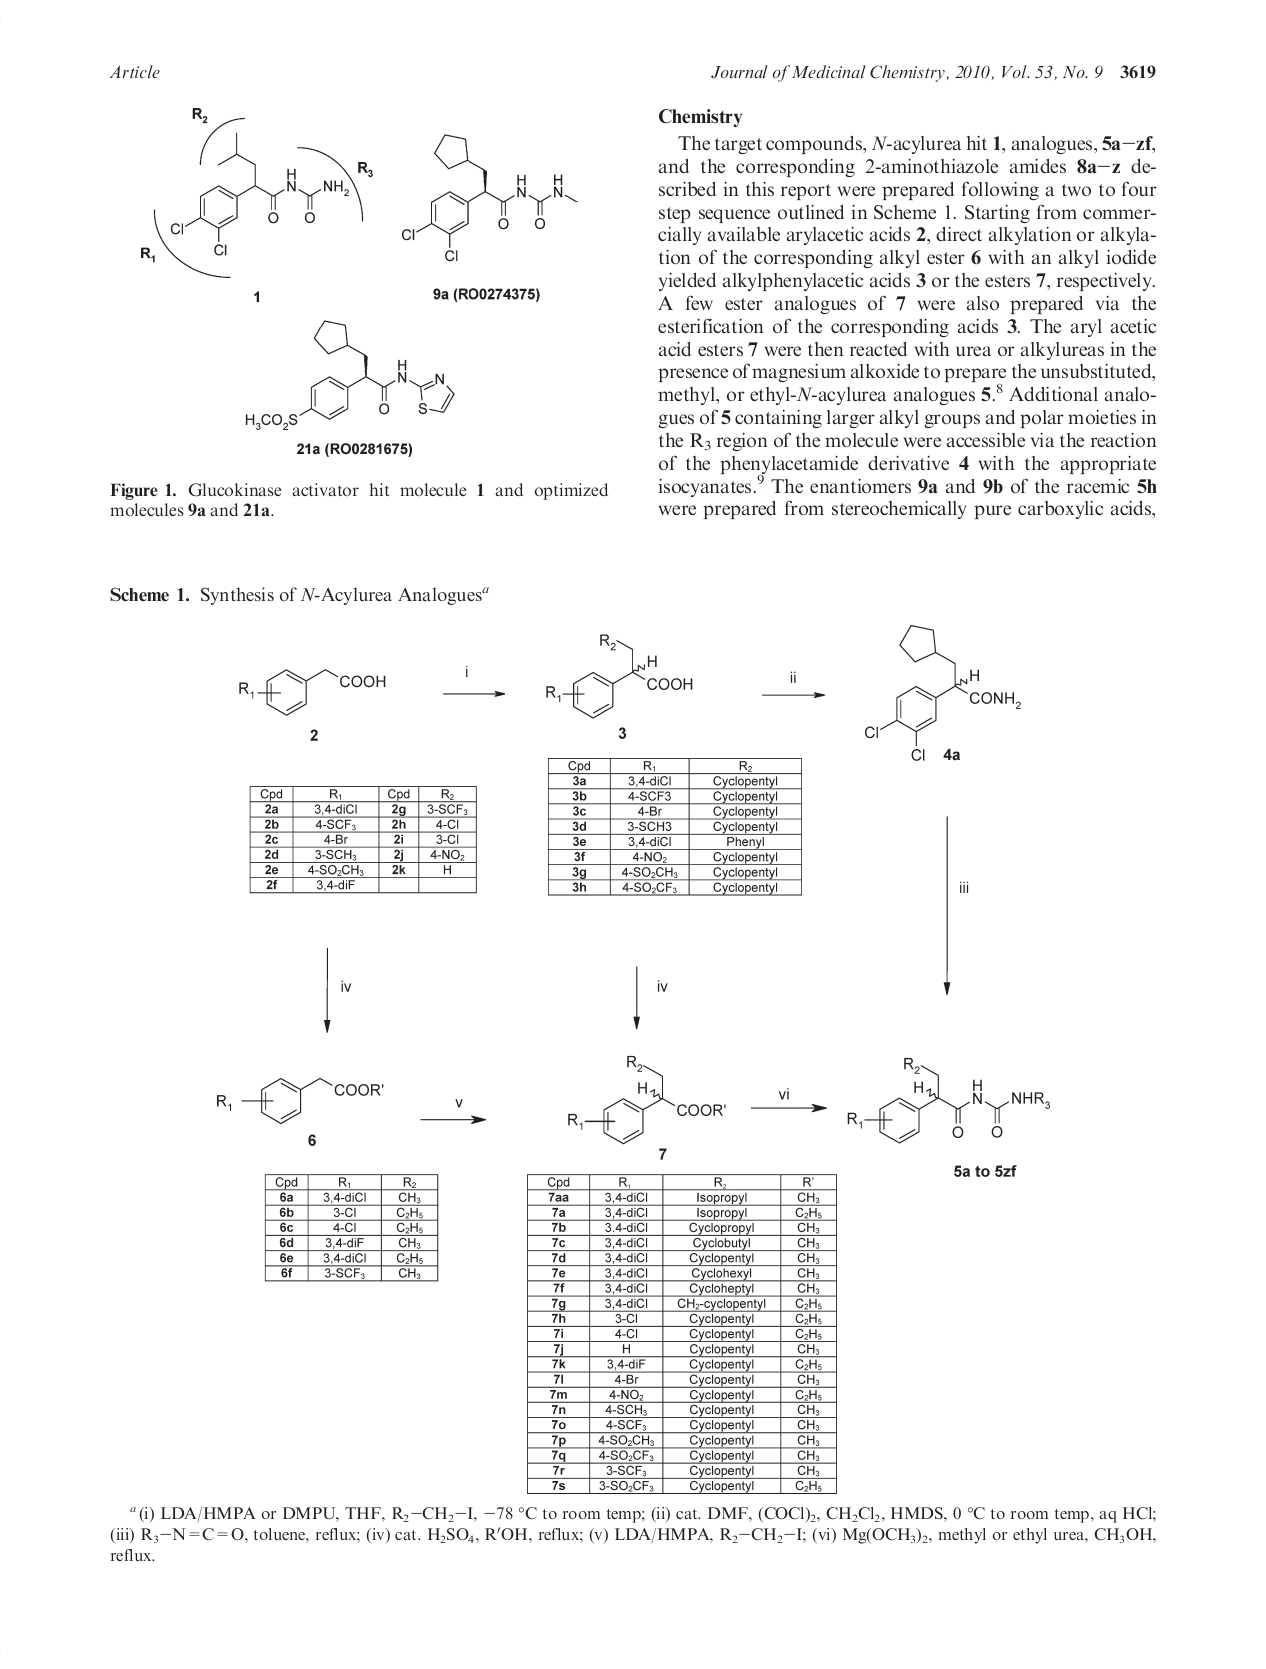exist_molecular: (398, 128, 586, 265), (165, 130, 355, 261), (246, 318, 457, 435), (855, 621, 1023, 767), (844, 1044, 1053, 1146), (563, 1049, 725, 1146), (541, 632, 697, 721), (211, 1075, 394, 1130), (231, 658, 392, 718)
